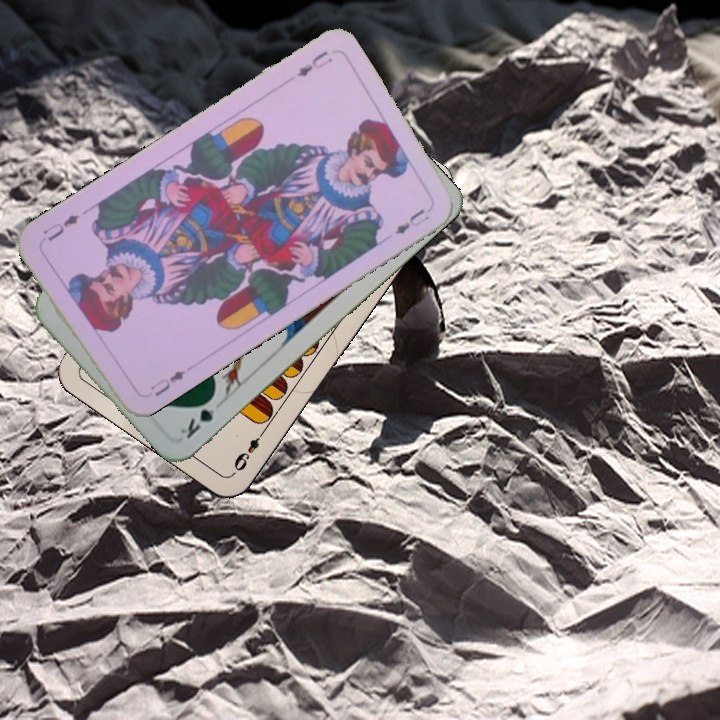E9: (229, 425, 269, 474)
EU: (146, 365, 188, 400), (293, 46, 335, 80)
GK: (175, 391, 219, 441)
